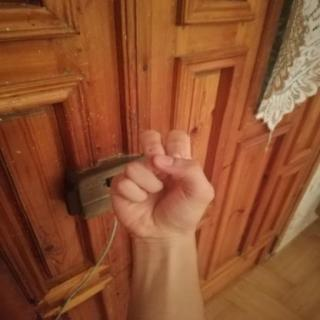QAAF: (91, 121, 234, 252)
